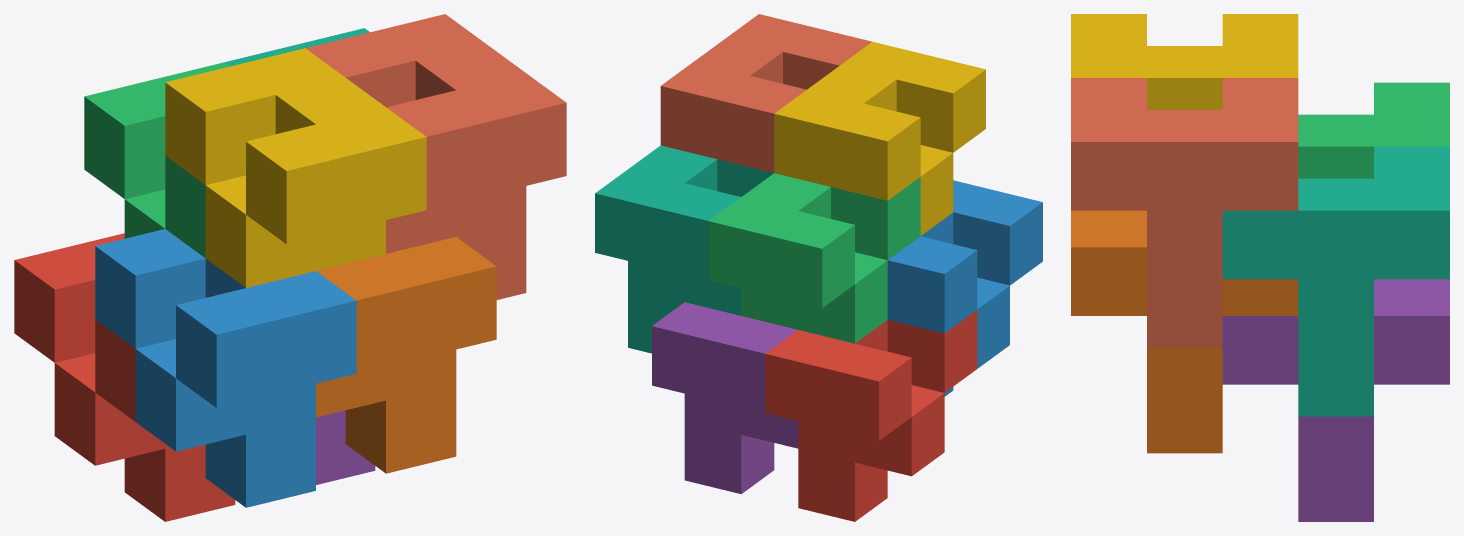
File: tiling.obj
The picture shows the model from 3 angles, left to right: view 1: azimuth 30°, elevation 25°; view 2: azimuth 150°, elevation 25°; view 3: azimuth 270°, elevation 25°; orthographic projection. The views are drawn at different scales.
Visible parts, largest first — view 1: copy_1_domain_2, copy_1_domain_4, copy_1_domain_8, copy_1_domain_6, copy_1_domain_1, copy_1_domain_3, copy_1_domain_5, copy_1_domain_7; view 2: copy_1_domain_1, copy_1_domain_3, copy_1_domain_4, copy_1_domain_7, copy_1_domain_5, copy_1_domain_8, copy_1_domain_2; view 3: copy_1_domain_8, copy_1_domain_7, copy_1_domain_5, copy_1_domain_6, copy_1_domain_4, copy_1_domain_3.
Boxes of the visible parts, <box> form: copy_1_domain_2: <box>95,229,356,507</box>; copy_1_domain_4: <box>165,48,426,287</box>; copy_1_domain_8: <box>305,14,566,299</box>; copy_1_domain_6: <box>316,237,496,473</box>; copy_1_domain_1: <box>14,233,235,521</box>; copy_1_domain_3: <box>84,62,229,257</box>; copy_1_domain_5: <box>316,410,375,484</box>; copy_1_domain_7: <box>225,28,369,66</box>; copy_1_domain_1: <box>765,310,977,521</box>; copy_1_domain_3: <box>708,173,920,343</box>; copy_1_domain_4: <box>774,41,985,235</box>; copy_1_domain_7: <box>595,145,773,353</box>; copy_1_domain_5: <box>652,302,798,494</box>; copy_1_domain_8: <box>660,14,871,172</box>; copy_1_domain_2: <box>887,180,1042,396</box>; copy_1_domain_8: <box>1071,78,1298,347</box>; copy_1_domain_7: <box>1222,146,1449,416</box>; copy_1_domain_5: <box>1222,279,1449,521</box>; copy_1_domain_6: <box>1071,210,1298,453</box>; copy_1_domain_4: <box>1071,14,1298,109</box>; copy_1_domain_3: <box>1298,82,1449,178</box>.
Size of the model in its own units: 5 by 6 by 5.
